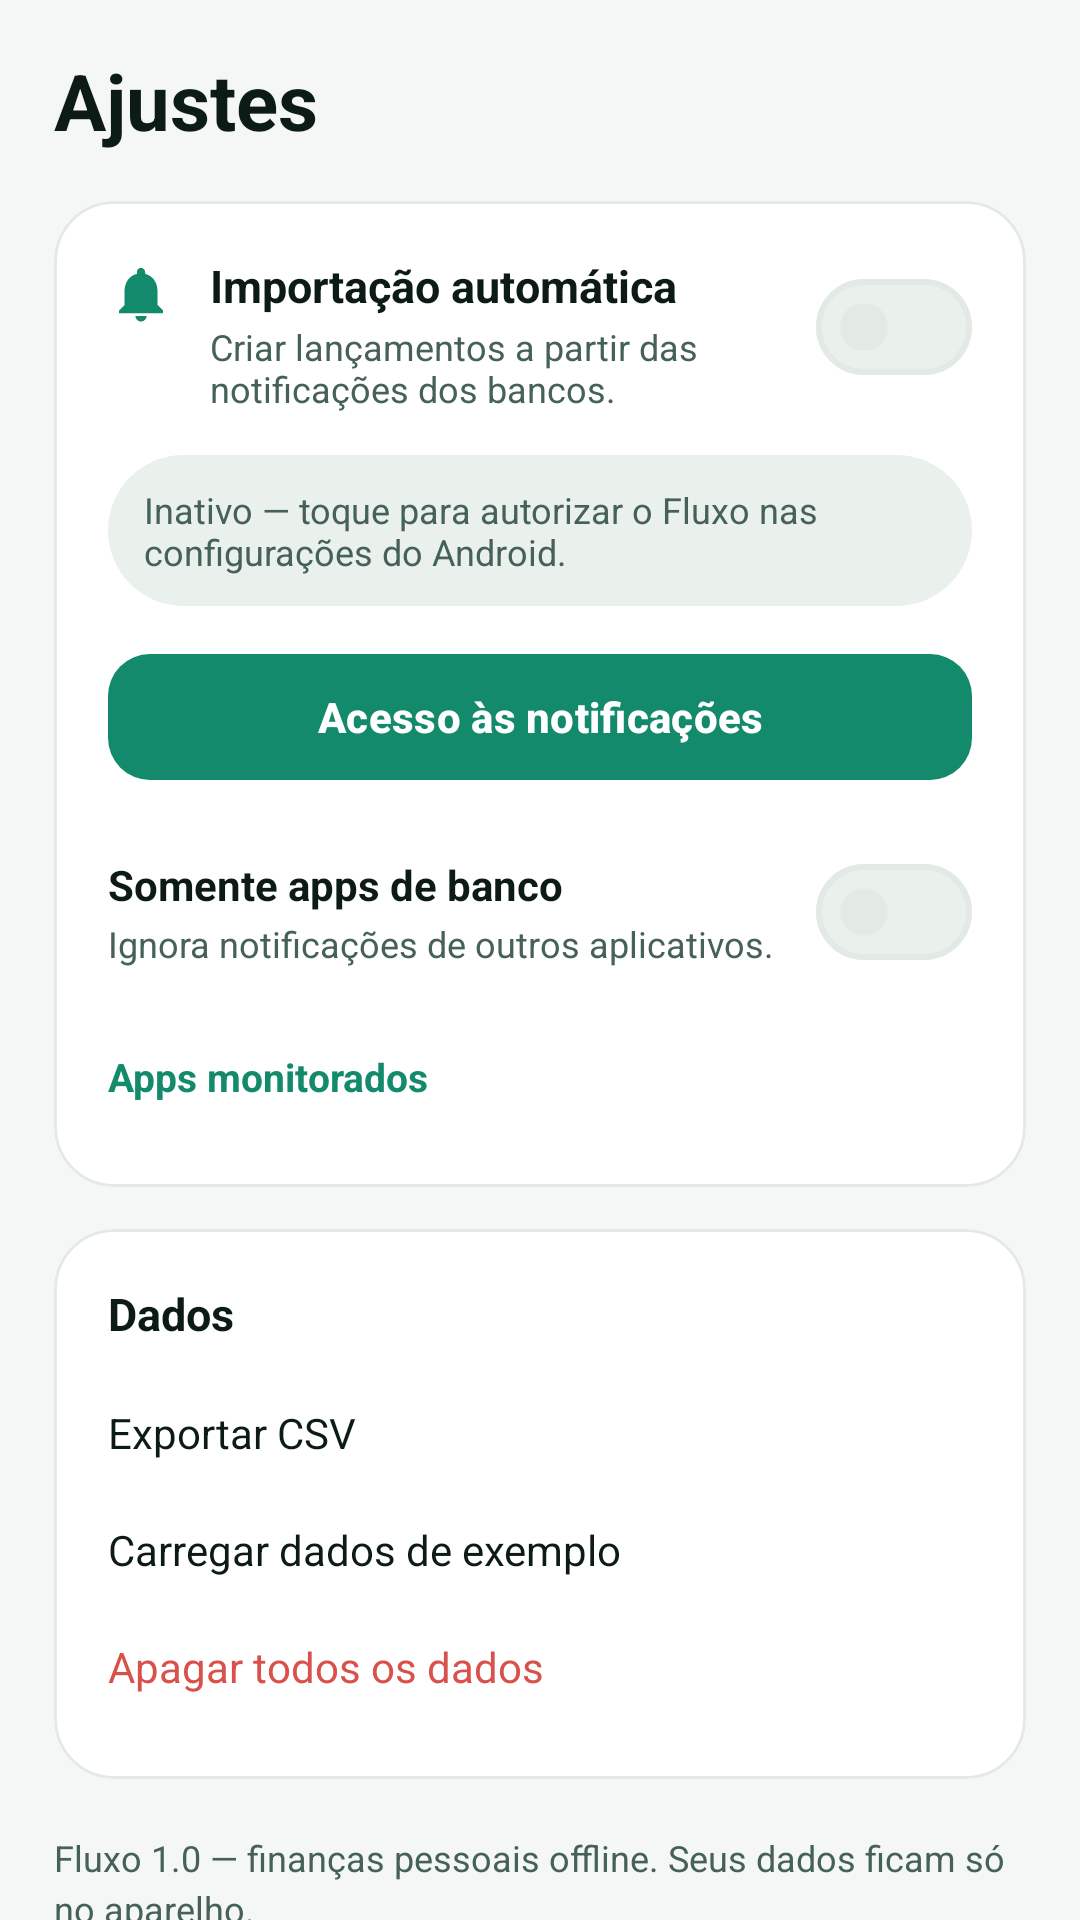

Icon click points for this 1080×1920 phone screenshot, format [x,y]:
bell: [141,295]
